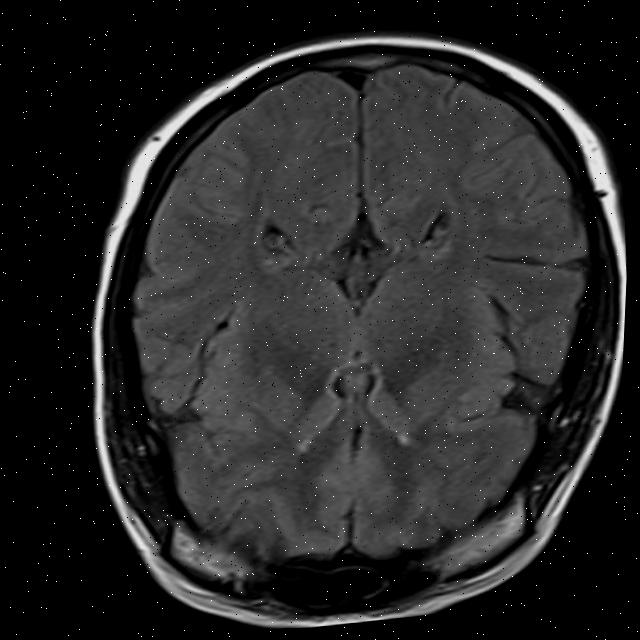NoTumor: (49, 0, 639, 637)
